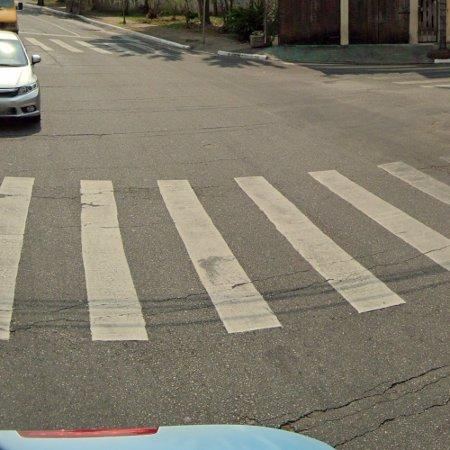crosswalks: (0, 151, 450, 341)
